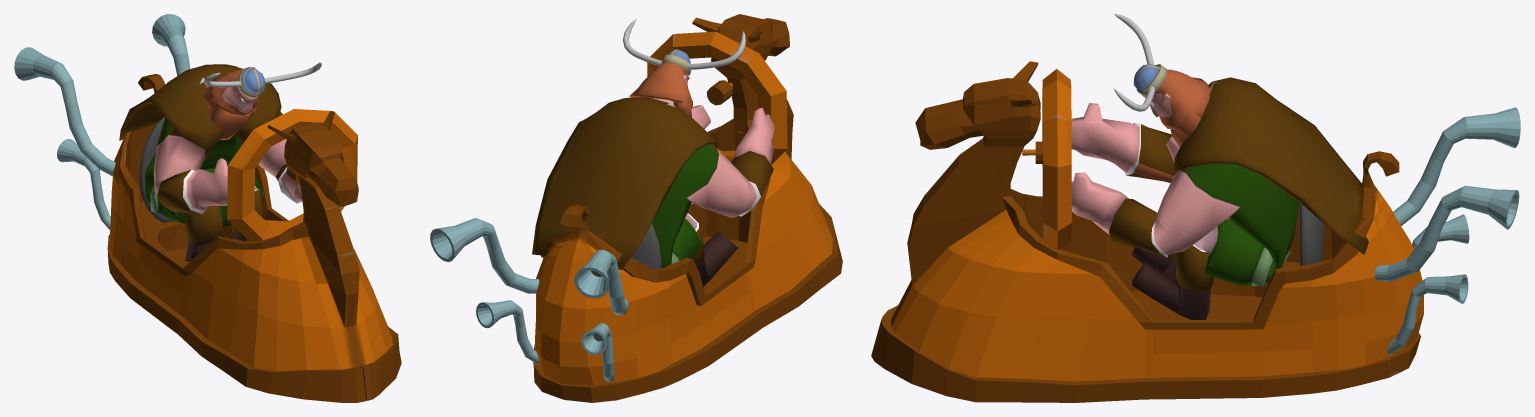
File: vikingoKartHabilidad_000502.obj
The picture shows the model from 3 angles, left to right: view 1: azimuth 30°, elevation 25°; view 2: azimuth 150°, elevation 25°; view 3: azimuth 270°, elevation 25°; orthographic projection. The views are drawn at different scales.
Visible parts, largest first — view 1: kartVikingo, Vikingo; view 2: kartVikingo, Vikingo; view 3: kartVikingo, Vikingo.
Boxes of the visible parts, <box> form: kartVikingo: <box>14,14,401,402</box>; Vikingo: <box>119,62,321,261</box>; kartVikingo: <box>430,14,842,402</box>; Vikingo: <box>532,19,774,286</box>; kartVikingo: <box>871,61,1520,402</box>; Vikingo: <box>1071,14,1368,319</box>.
Bounding box in the file's own units: 3.71 × 5.58 × 10.31.
